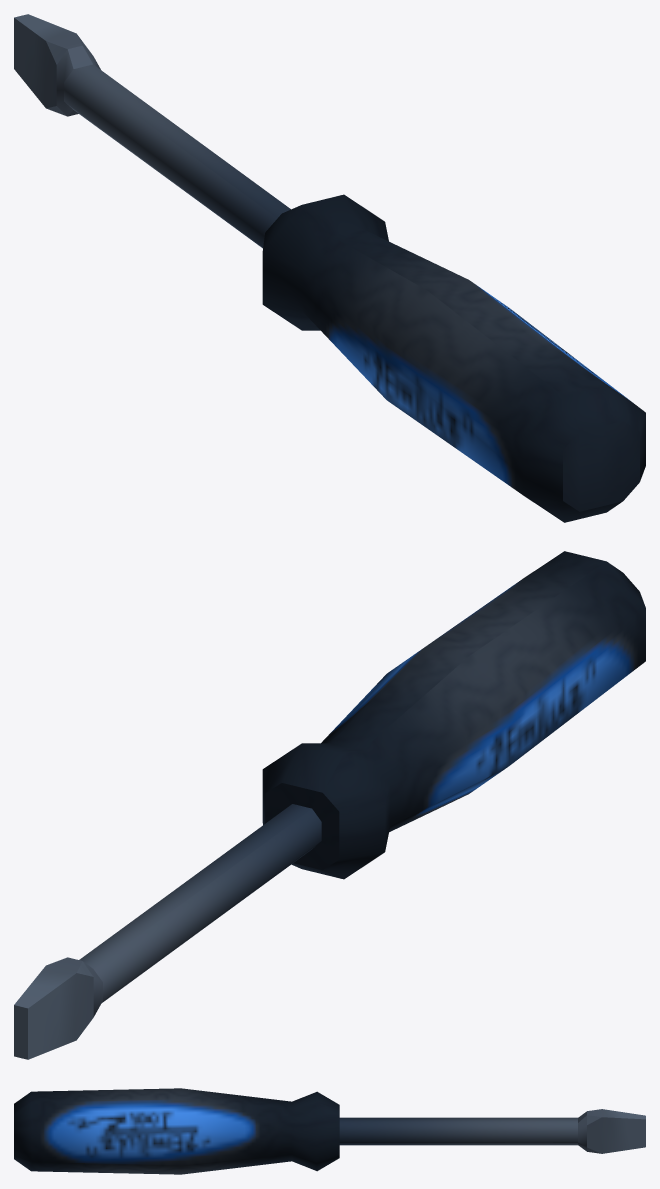
Rendered from SM_ScrewdriverFlat.fbx.
3 renders of one model, top to bottom at view 1: azimuth 30°, elevation 25°; view 2: azimuth 150°, elevation 25°; view 3: azimuth 270°, elevation 25°, orthographic. The views are drawn at different scales.
Visible parts, largest first — view 1: ScrewdriverFlat; view 2: ScrewdriverFlat; view 3: ScrewdriverFlat.
Boxes of the visible parts, x1=… form: ScrewdriverFlat: x1=14, y1=14, x2=645, y2=522; ScrewdriverFlat: x1=14, y1=551, x2=645, y2=1059; ScrewdriverFlat: x1=14, y1=1088, x2=645, y2=1174.
Size of the model in its own units: 8.66 by 9.32 by 71.11.
